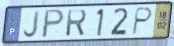1: (94, 7, 106, 38)
2: (110, 7, 130, 38)
J: (22, 10, 42, 39)
P: (40, 8, 66, 40), (130, 6, 155, 37)
R: (65, 9, 88, 38)
